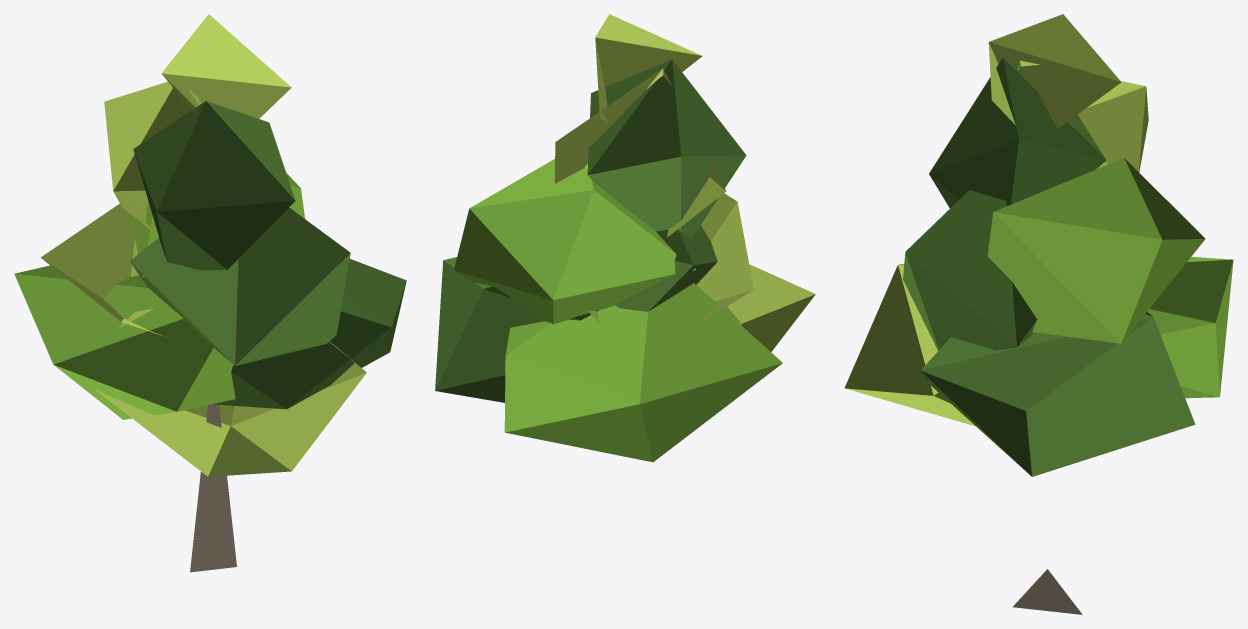
The model's file is tree_beech_2_lod2.glb.
3 renders of one model, left to right at view 1: azimuth 30°, elevation 25°; view 2: azimuth 150°, elevation 25°; view 3: azimuth 270°, elevation 25°, orthographic. The views are drawn at different scales.
Parts seen in each view (by area): view 1: tree_beech_2_lod2; view 2: tree_beech_2_lod2; view 3: tree_beech_2_lod2.
Part boxes in pixels (x1,y1,x2,y2): tree_beech_2_lod2: (14,14,406,572); tree_beech_2_lod2: (435,14,815,462); tree_beech_2_lod2: (844,14,1233,614).
Size of the model in its own units: 6.6 by 10.68 by 6.29.
